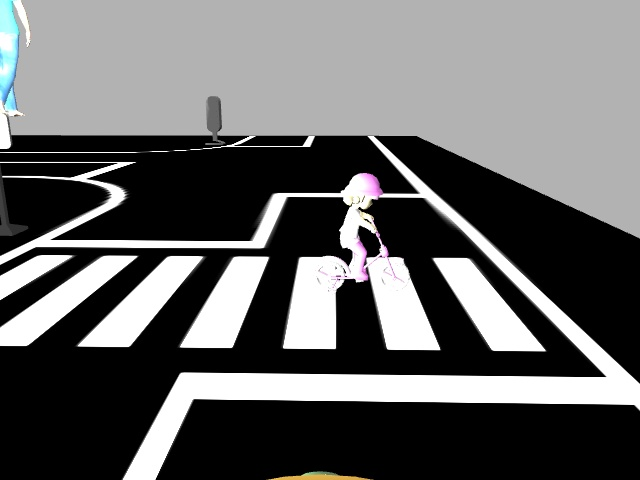Pedestrian: (313, 165, 415, 292)
